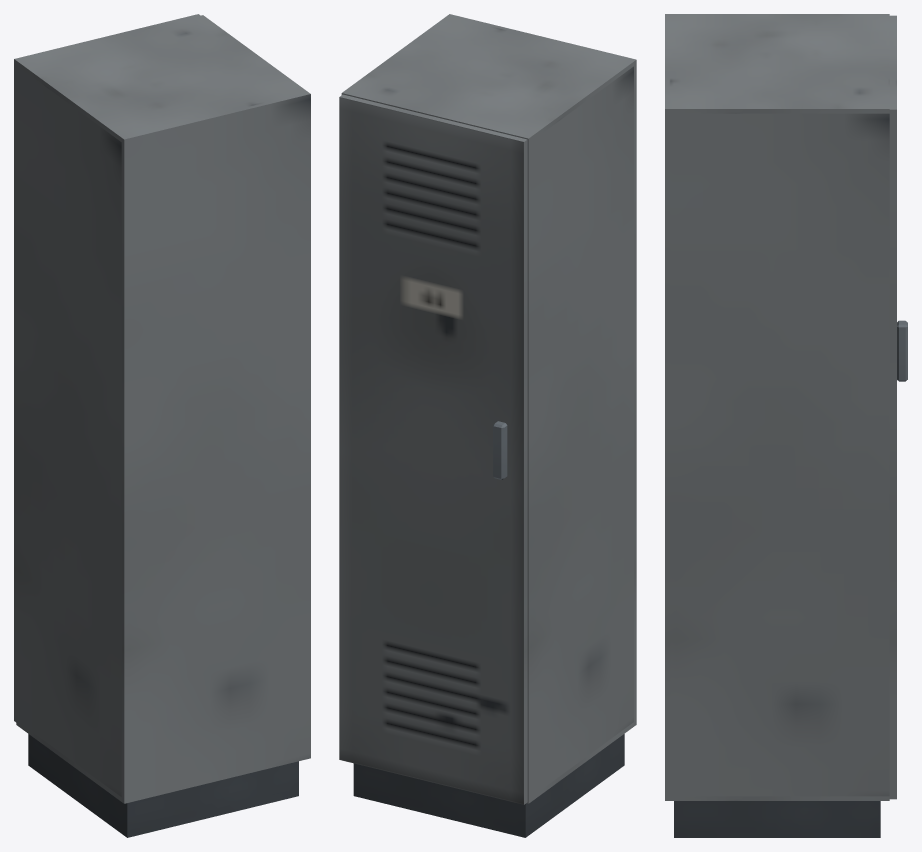
The model's file is locker_staff.fbx.
3 views of the same model, side by side, from view 1: azimuth 30°, elevation 25°; view 2: azimuth 150°, elevation 25°; view 3: azimuth 270°, elevation 25° (orthographic). The views are drawn at different scales.
Parts seen in each view (by area): view 1: locker_staff, locker_staff_door; view 2: locker_staff_door, locker_staff; view 3: locker_staff, locker_staff_door.
Part boxes in pixels (<box>): locker_staff: <box>16,15,310,837</box>; locker_staff_door: <box>14,14,200,722</box>; locker_staff_door: <box>339,94,527,804</box>; locker_staff: <box>341,14,636,837</box>; locker_staff: <box>665,14,889,837</box>; locker_staff_door: <box>889,15,907,799</box>.
Size of the model in its own units: 0.5 by 1.8 by 0.5405.
1 material, 1 textured.
